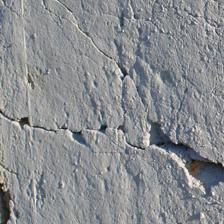Crack: (2, 7, 82, 85), (0, 99, 51, 183), (0, 39, 64, 104), (61, 57, 162, 96)
